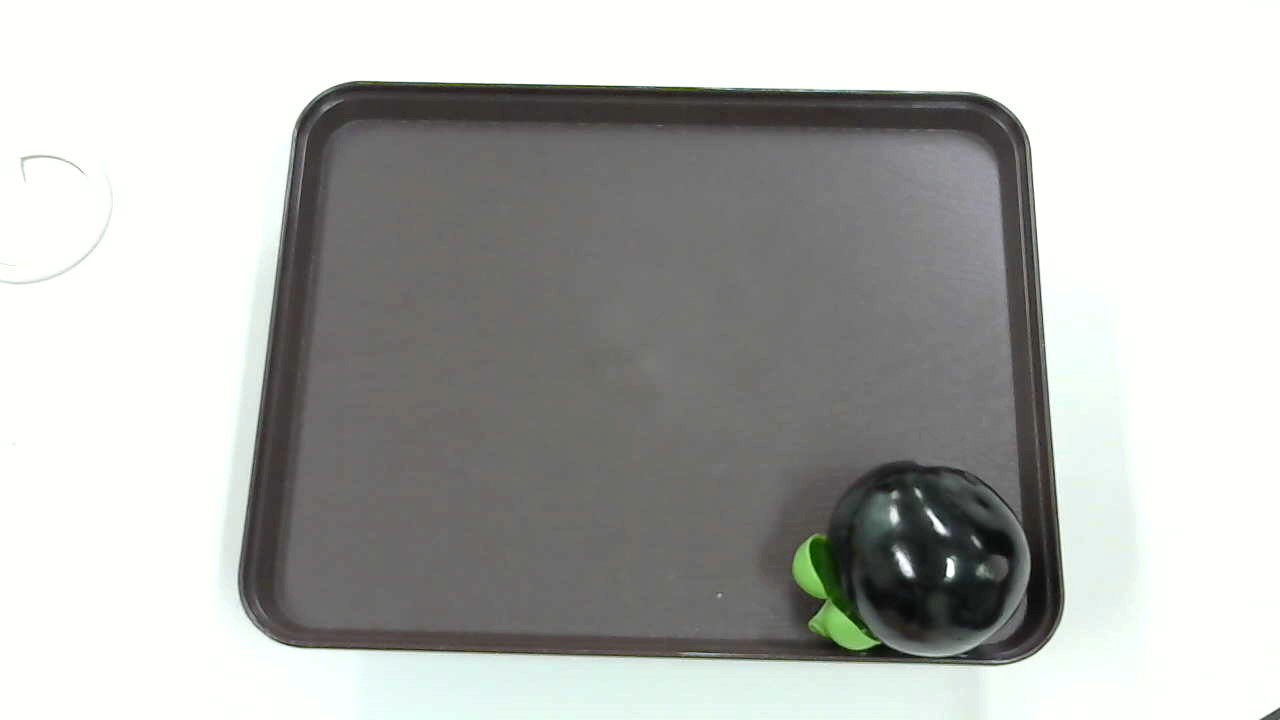mangosteen: (785, 459, 1039, 661)
